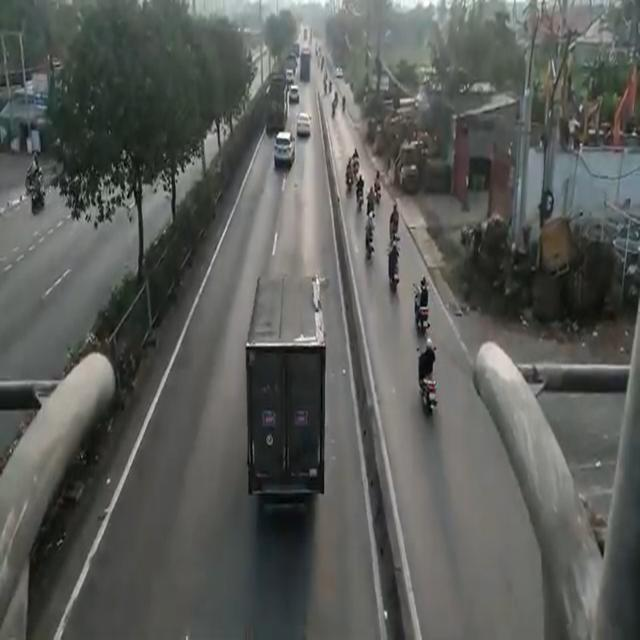car: (293, 109, 311, 137), (277, 129, 288, 162)
motorbike: (416, 342, 436, 410), (388, 249, 400, 298), (415, 287, 427, 332), (388, 204, 400, 244), (365, 218, 374, 268), (374, 166, 384, 202), (356, 172, 364, 212)
truck: (250, 267, 320, 506), (270, 78, 286, 130)
